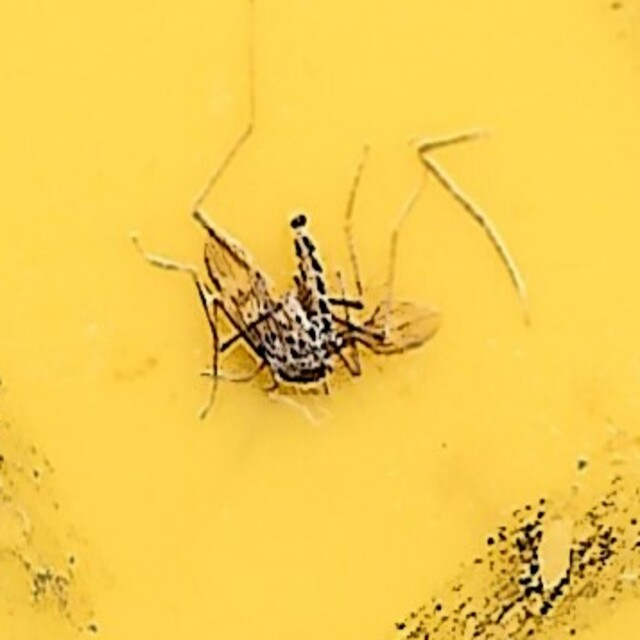Nematocera: (179, 213, 461, 427)
